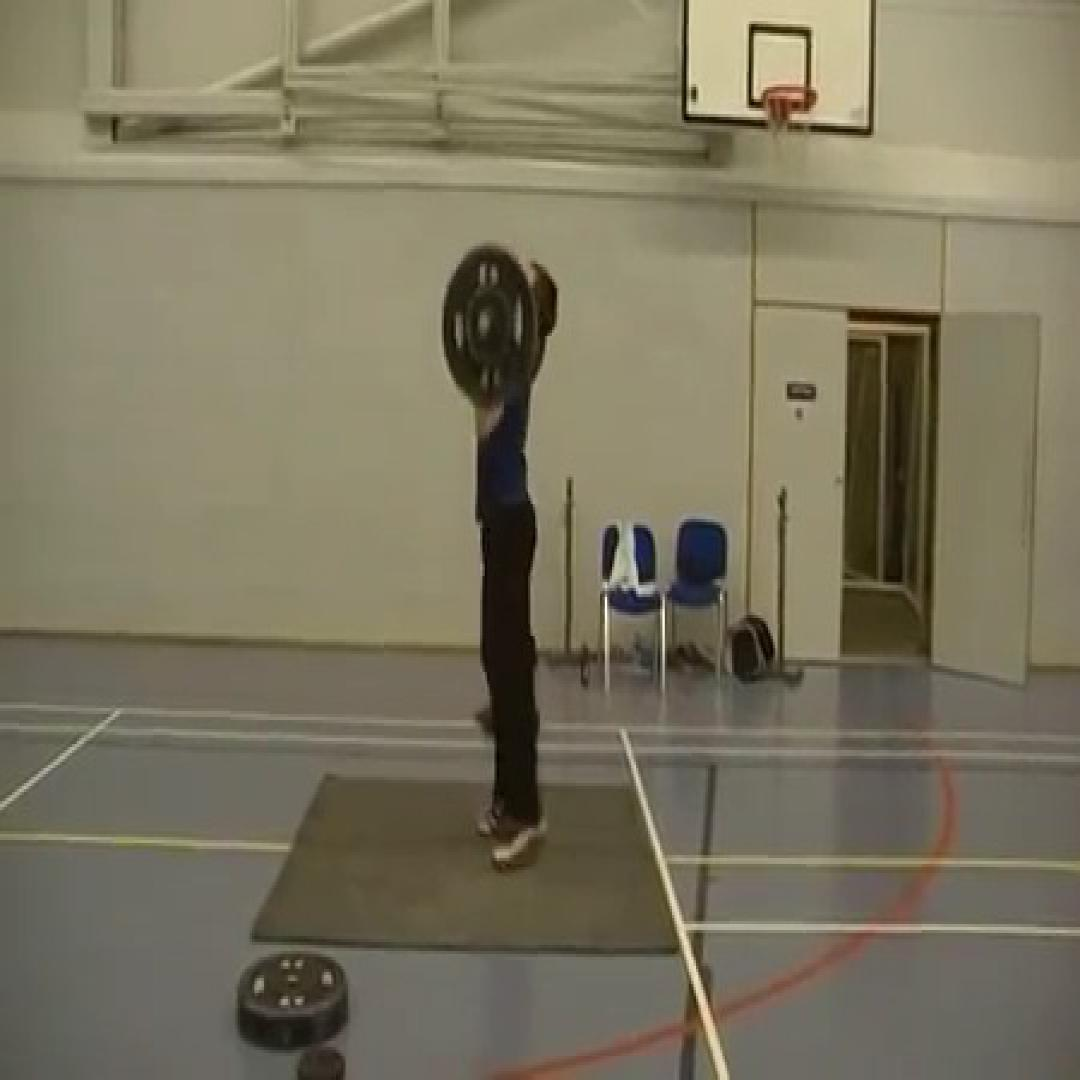Bar: (476, 312, 494, 339)
Barbell: (441, 243, 538, 408)
